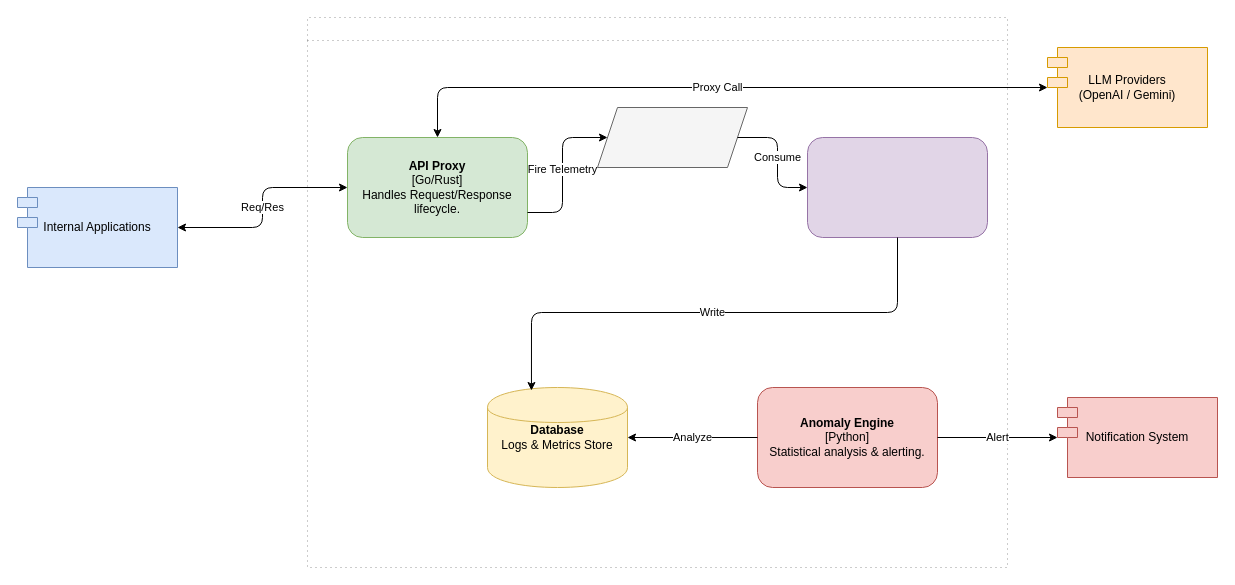
This 1235x585 diagram has some shape labels left out. The box of each missing label's shape, as (x1, y1, x2, y2) in pixels:
Event Bus [Redis/Kafka] Asynchronous message buffer.: (596, 106, 748, 168)
Ingestion Worker [Python/Node] Processes & stores telemetry.: (806, 136, 988, 238)
LLM API Wrapper System: (306, 16, 1008, 568)
